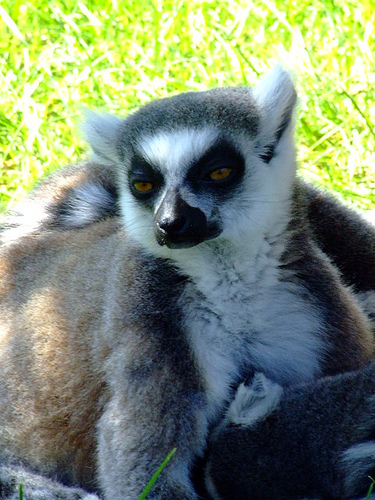cat: (0, 63, 373, 498)
